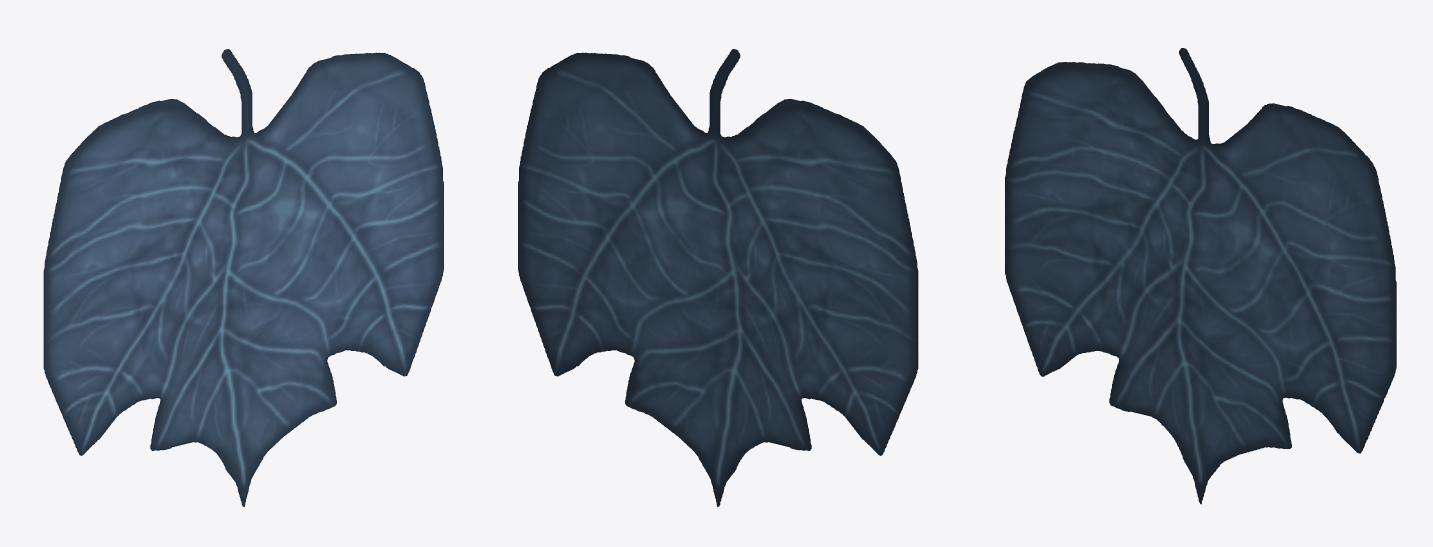
Rendered from MarshVine_leaf_a01.fbx.
3 views of the same model, side by side, from view 1: azimuth 30°, elevation 25°; view 2: azimuth 150°, elevation 25°; view 3: azimuth 330°, elevation 25° (orthographic). The views are drawn at different scales.
Visible parts, largest first — view 1: Vine_leaf_a01; view 2: Vine_leaf_a01; view 3: Vine_leaf_a01.
Part boxes in pixels (left/top/right/bottom): Vine_leaf_a01: left=43, top=49, right=443, bottom=506; Vine_leaf_a01: left=518, top=49, right=918, bottom=506; Vine_leaf_a01: left=1005, top=48, right=1396, bottom=504.
Size of the model in its own units: 97.88 by 108 by 1.79e-05.
